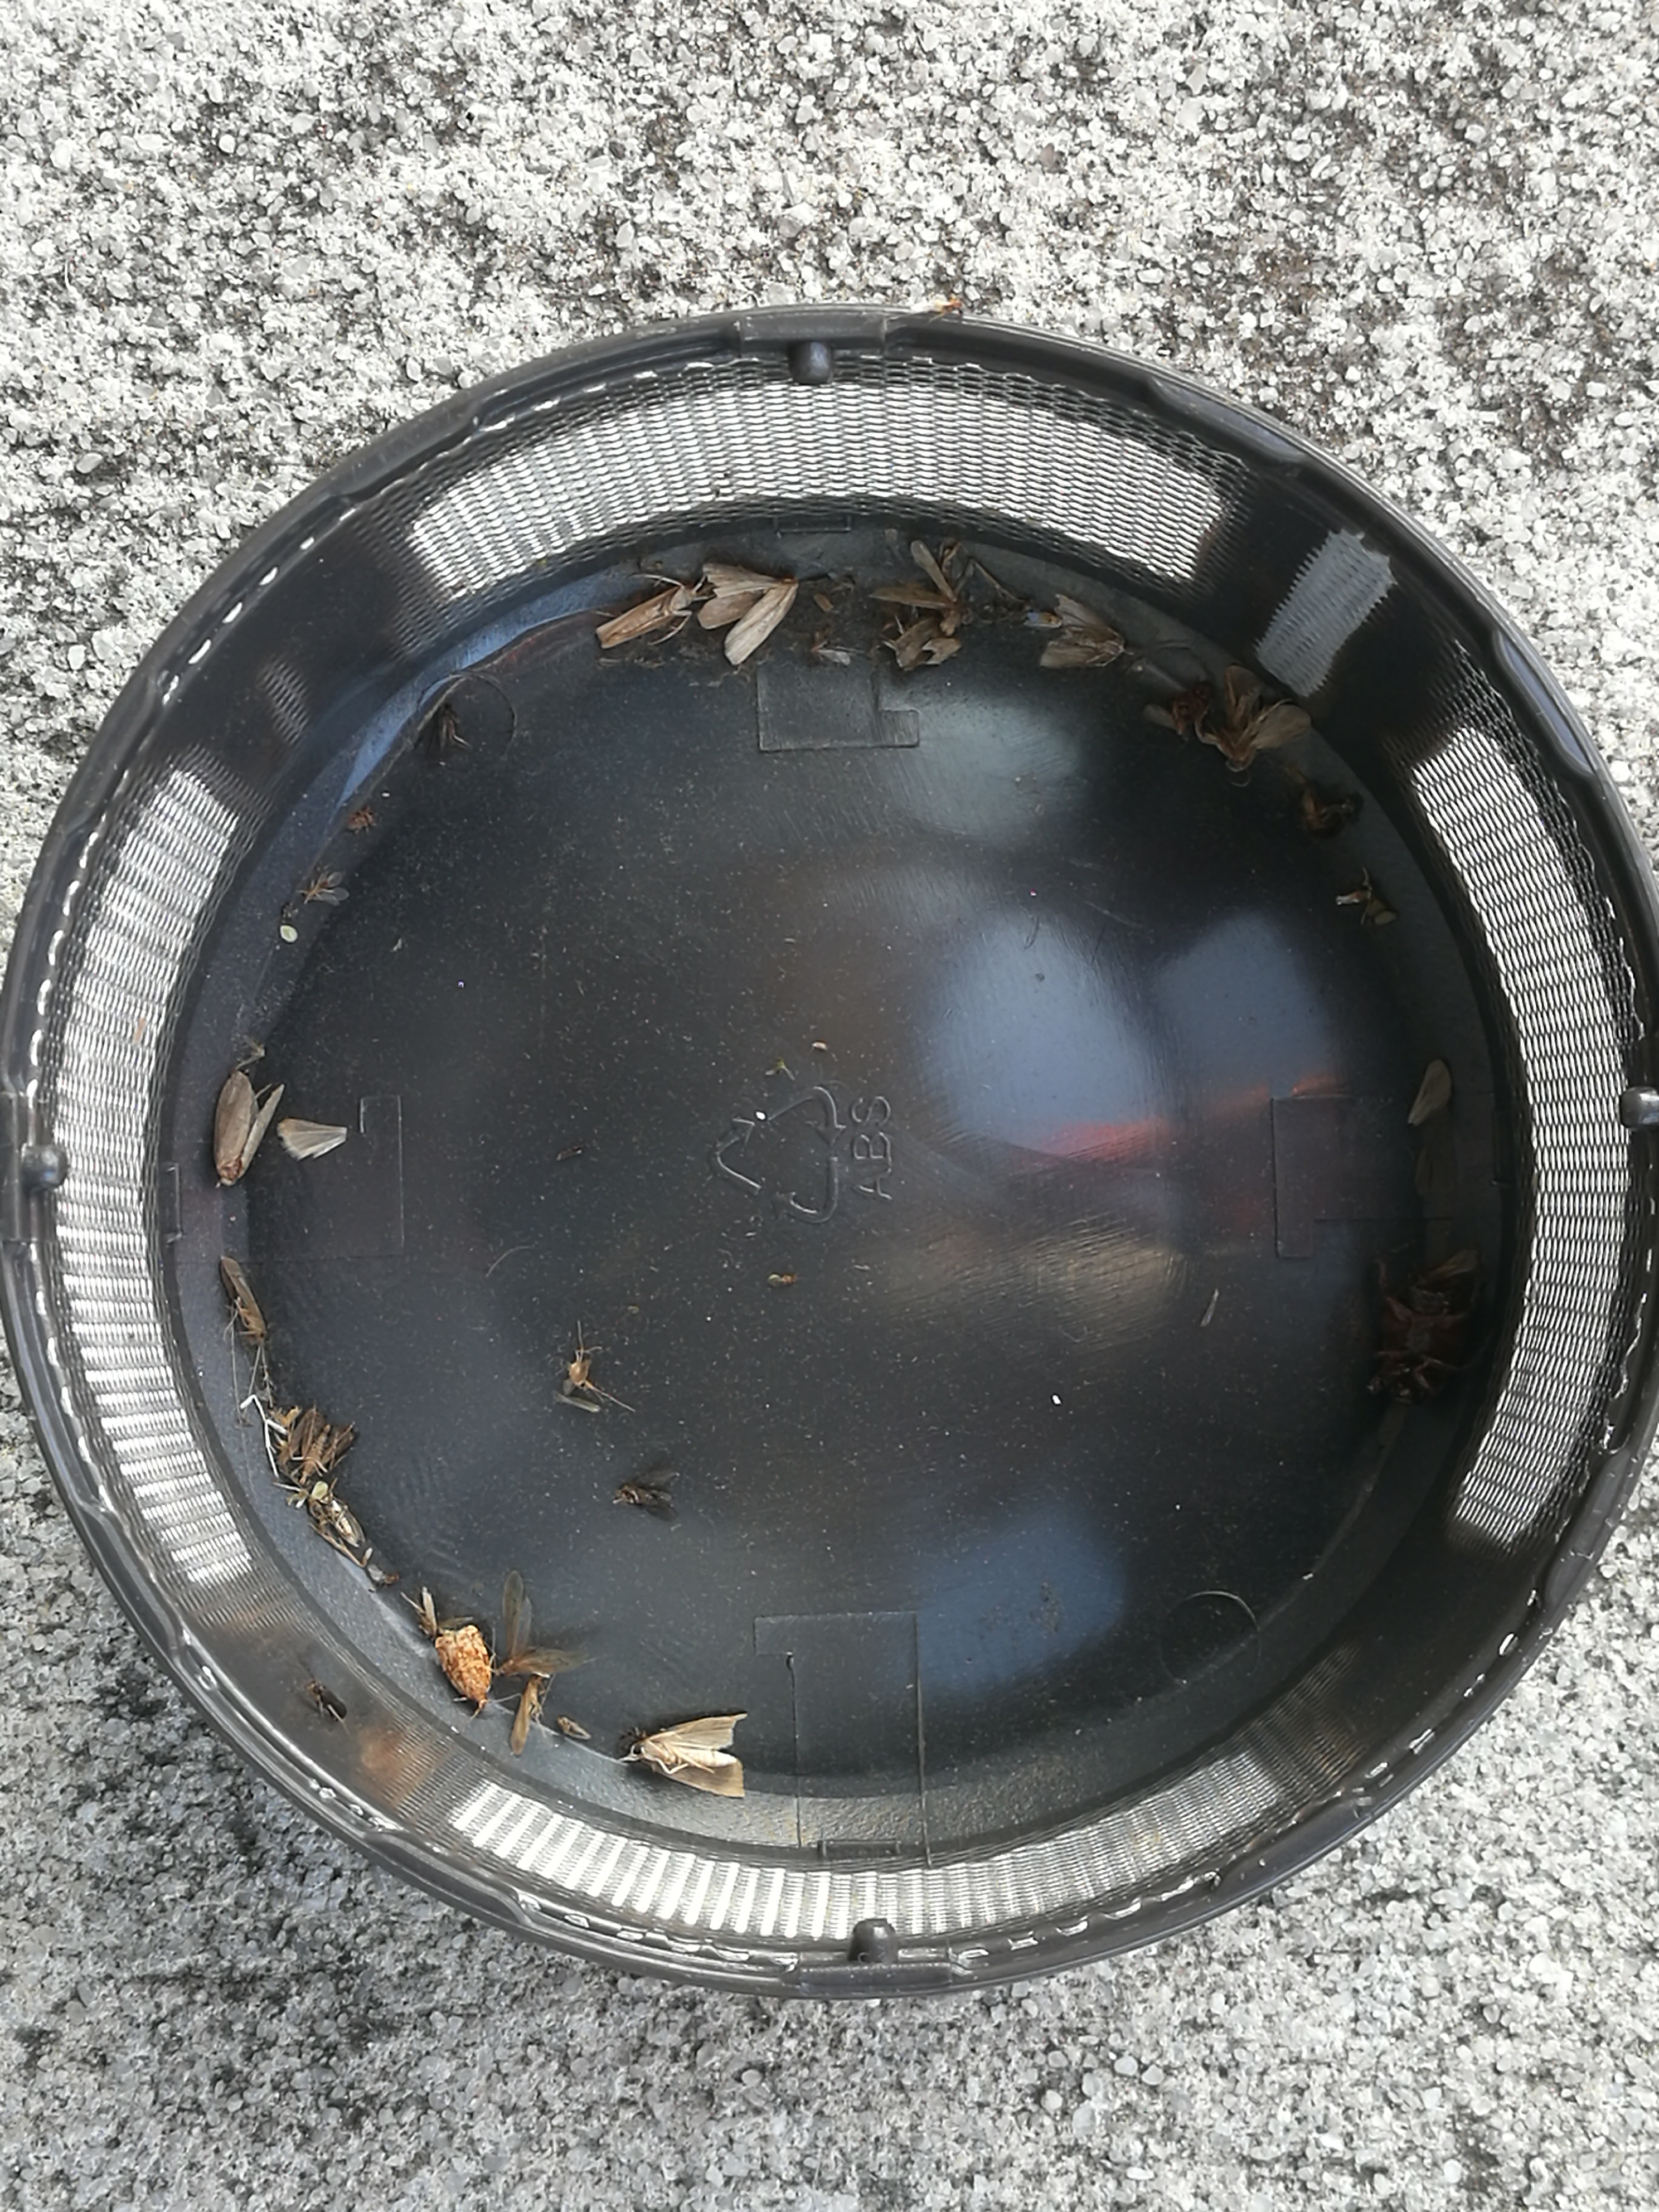beetle: (1380, 1284, 1469, 1402)
mosquito: (598, 587, 695, 648), (220, 1256, 265, 1343), (509, 1674, 540, 1756), (321, 1494, 364, 1548)
moth: (626, 1714, 748, 1797), (1215, 665, 1310, 770), (497, 1569, 592, 1674), (699, 563, 795, 664), (214, 1075, 284, 1184), (1039, 596, 1126, 667), (298, 1409, 357, 1482), (437, 1625, 491, 1702)
